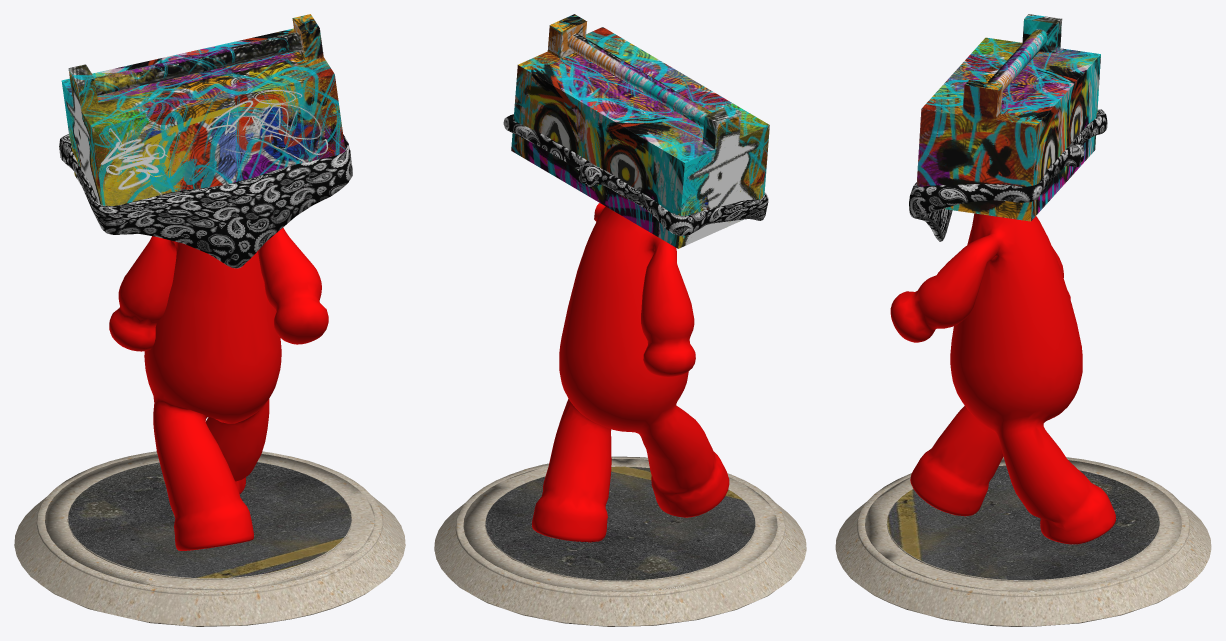
The picture shows the model from 3 angles, left to right: view 1: azimuth 30°, elevation 25°; view 2: azimuth 150°, elevation 25°; view 3: azimuth 270°, elevation 25°; orthographic projection. The views are drawn at different scales.
Visible parts, largest first — view 1: BBody; view 2: BBody; view 3: BBody.
Part boxes in pixels (bbox=[...]): BBody: bbox=[14, 14, 405, 626]; BBody: bbox=[434, 14, 806, 626]; BBody: bbox=[835, 14, 1211, 626].
Size of the model in its own units: 1.45 by 2.12 by 1.45.
Materials: 5 (4 with a texture image).
